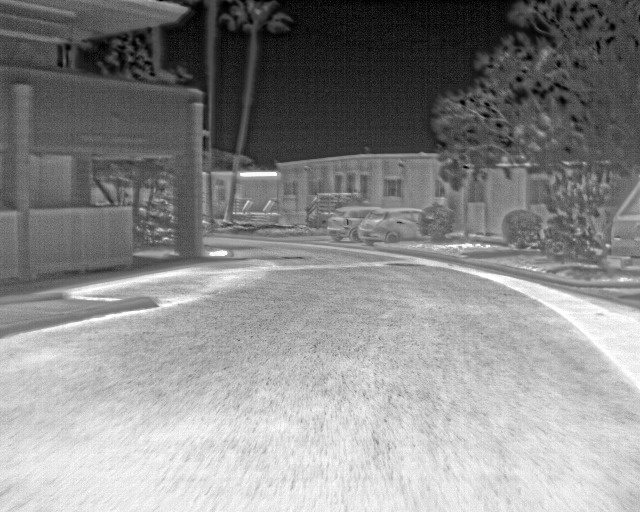vehicle: (361, 208, 433, 243), (329, 207, 371, 238)
